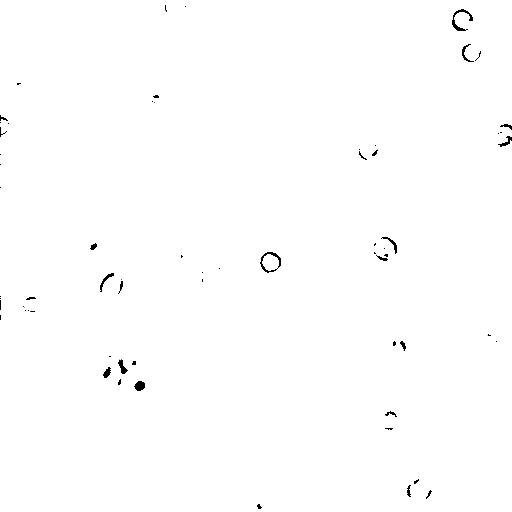micro-algae: (344, 177, 398, 231), (122, 370, 158, 407), (75, 229, 112, 262), (112, 349, 142, 385), (91, 359, 120, 391), (5, 76, 38, 104), (214, 159, 245, 188), (405, 476, 434, 504), (9, 260, 36, 290), (98, 270, 124, 301), (399, 289, 431, 314), (59, 9, 87, 37), (43, 419, 69, 448), (371, 235, 398, 262), (199, 260, 224, 289), (372, 107, 397, 136), (439, 282, 463, 311), (246, 491, 278, 512), (490, 121, 512, 150), (451, 8, 475, 33), (475, 332, 501, 355), (260, 249, 283, 274), (377, 408, 402, 431), (396, 364, 421, 387), (163, 0, 188, 22), (1, 296, 23, 321), (461, 42, 483, 65), (358, 138, 380, 161), (389, 337, 409, 362), (165, 240, 186, 262), (21, 295, 43, 314), (1, 115, 11, 136)
